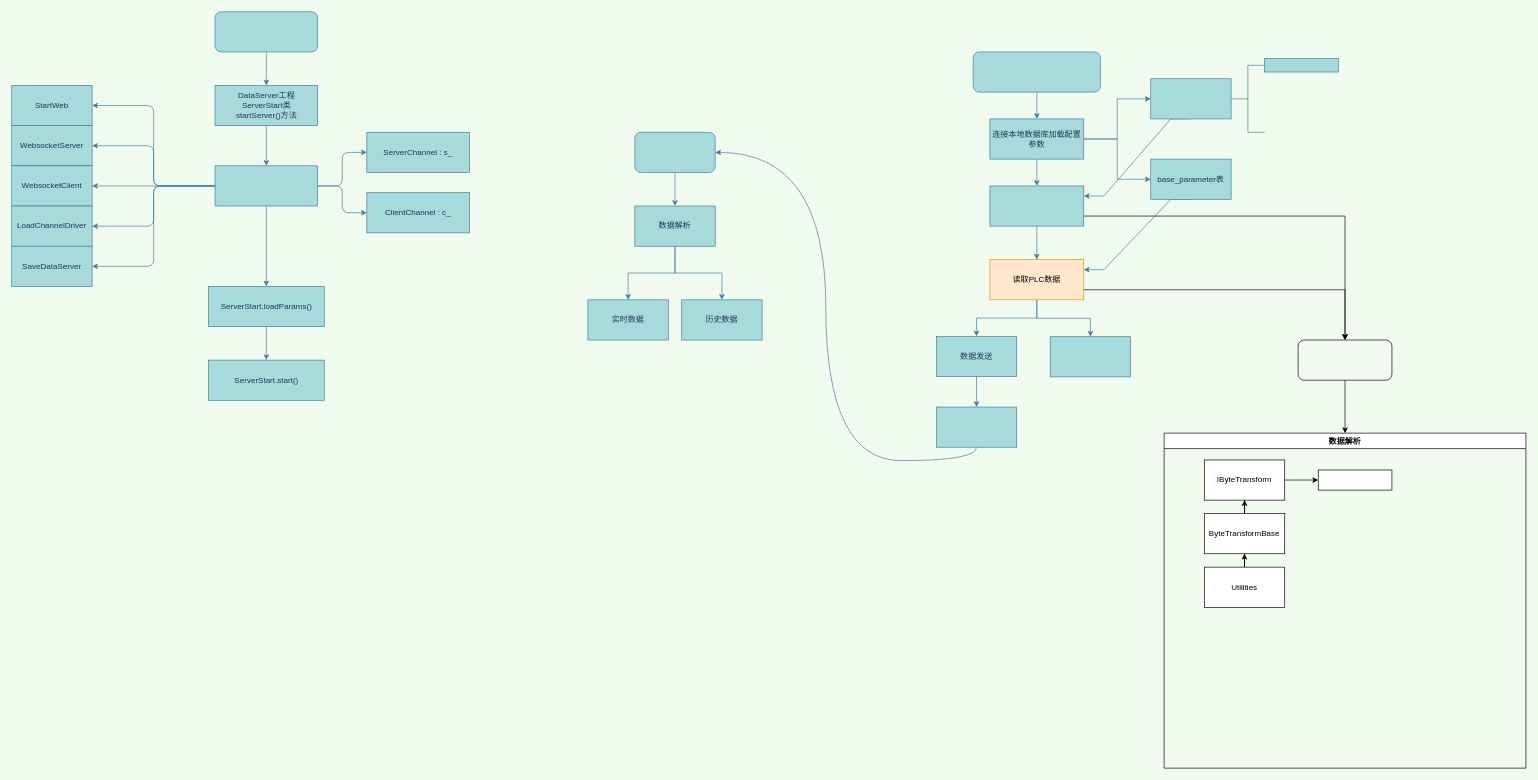
This 1538x780 diagram has some shape labels left out. Here are the shapes that lost their labels. From the top down, the centre of each, then its label:
(266,31): Fert3000采集工程启动过程
(1036,71): PLCs7connector工程
(1301,65): ip地址
(1190,98): base_plcinfo表
(674,152): Fert3000采集工程
(266,185): BeanContainer.init(); 根据@Protocol注解及类继承的父类将bean放入beanMap中
(1036,205): 连接PLC
(1090,356): 数据存储
(1344,359): HslCommunication
(976,426): 数据包装
(1355,479): transform()
